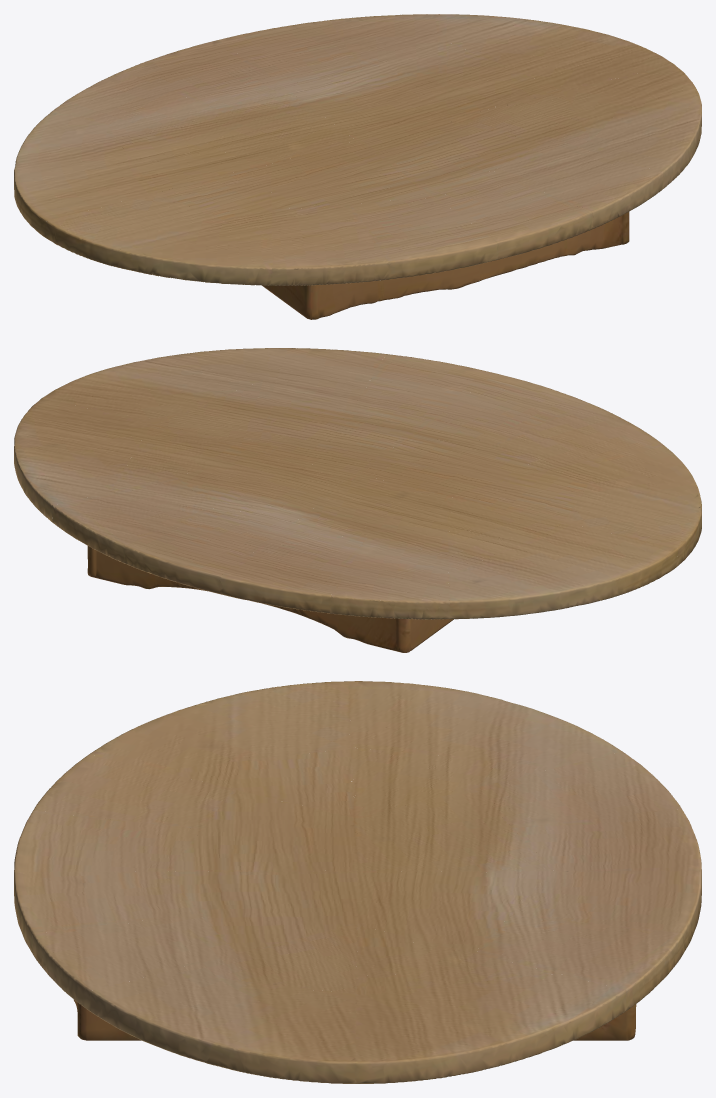
File: gen_coffee_table_tripo.web.glb
The picture shows the model from 3 angles, top to bottom: view 1: azimuth 30°, elevation 25°; view 2: azimuth 150°, elevation 25°; view 3: azimuth 270°, elevation 25°; orthographic projection. The views are drawn at different scales.
Visible parts, largest first — view 1: tripo_node_ee985b72-495b-4921-9a74-4d1fdea5a472; view 2: tripo_node_ee985b72-495b-4921-9a74-4d1fdea5a472; view 3: tripo_node_ee985b72-495b-4921-9a74-4d1fdea5a472.
Part boxes in pixels (x1,y1,x2,y2): tripo_node_ee985b72-495b-4921-9a74-4d1fdea5a472: (14,14,701,319); tripo_node_ee985b72-495b-4921-9a74-4d1fdea5a472: (14,348,701,652); tripo_node_ee985b72-495b-4921-9a74-4d1fdea5a472: (14,681,701,1083).
Bounding box in the file's own units: 11.26 × 0.9998 × 8.57.
1 material, 1 textured.
